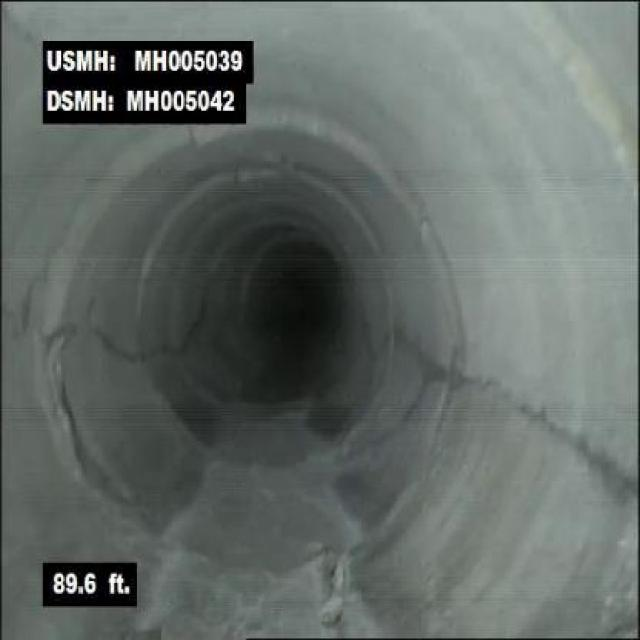Crack: (472, 374, 636, 500), (182, 128, 204, 149)
Joint offset: (29, 157, 129, 317), (251, 97, 389, 152), (431, 212, 474, 338)
